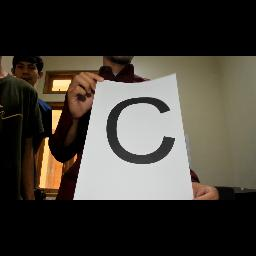c: (101, 92, 179, 170)
